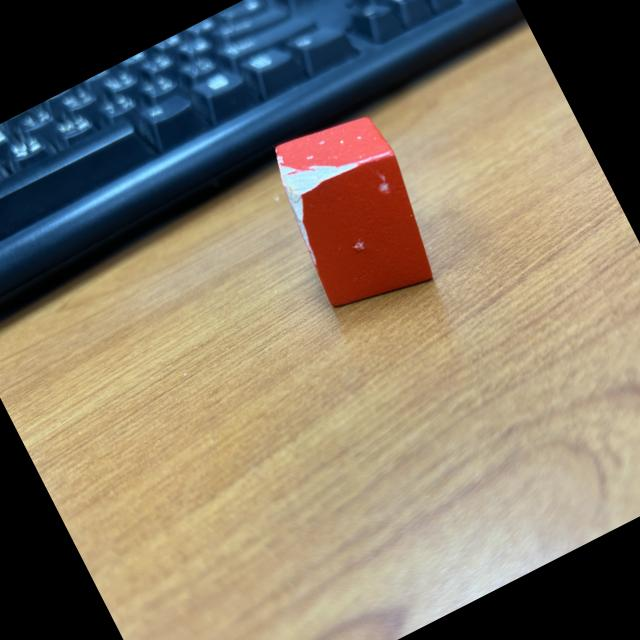broken: (254, 97, 453, 326)
